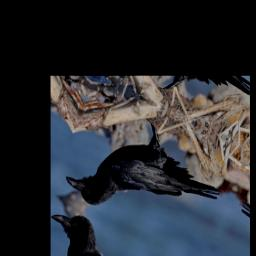Crow: (60, 92, 237, 256)
